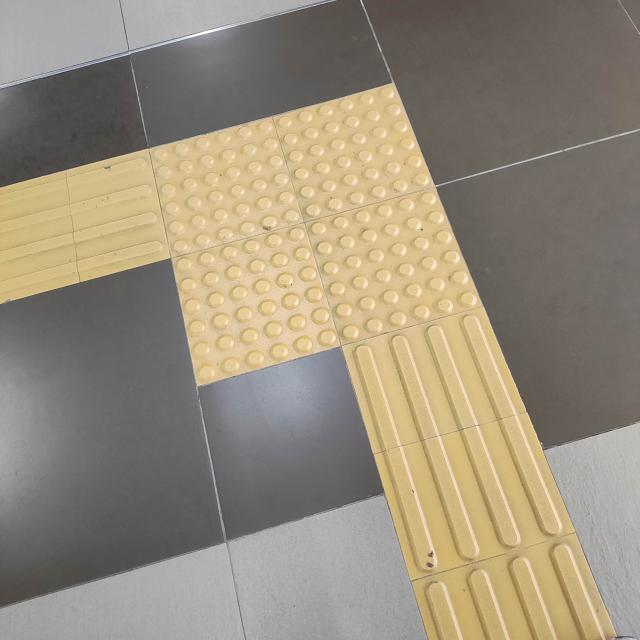kiri: (0, 65, 555, 455)
